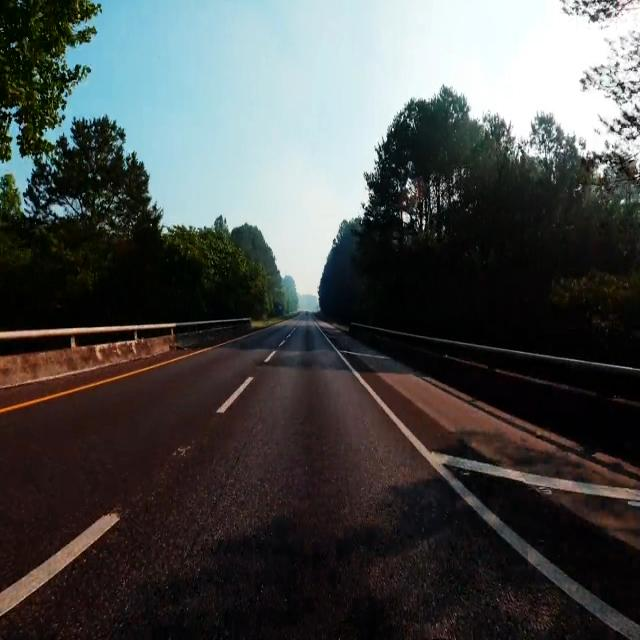lane: (326, 338, 640, 640), (0, 338, 241, 414), (0, 513, 119, 614), (216, 378, 252, 412)
road: (0, 317, 616, 638), (321, 324, 640, 487), (450, 468, 640, 621)
